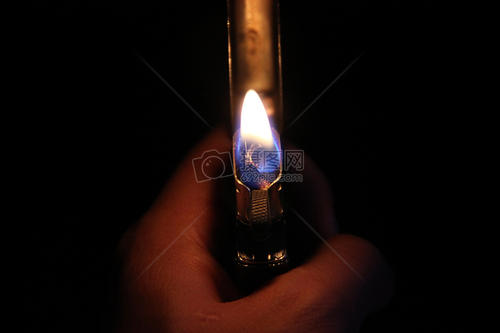fire: (227, 90, 286, 175)
